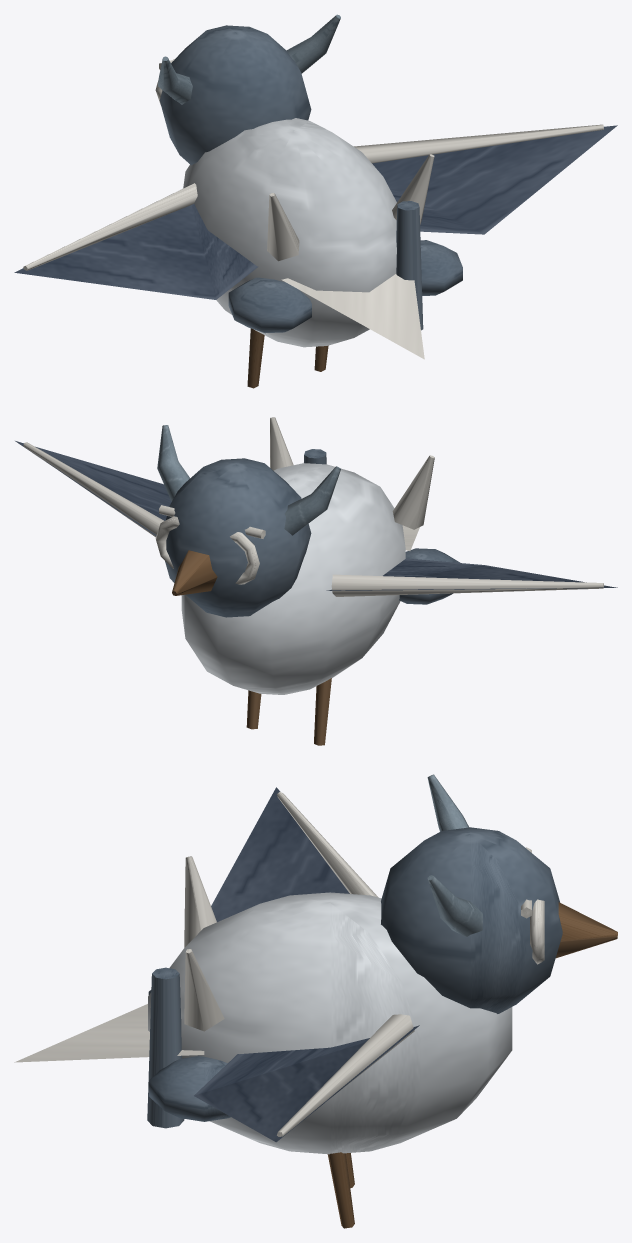
Rendered from pigeon.glb.
The picture shows the model from 3 angles, top to bottom: view 1: azimuth 30°, elevation 25°; view 2: azimuth 150°, elevation 25°; view 3: azimuth 270°, elevation 25°; orthographic projection. The views are drawn at different scales.
Parts seen in each view (by area): view 1: Body, WingL, WingR, FactionBrute, FactionArcane, FactionIndustrial; view 2: Body, WingR, WingL, FactionBrute, FactionArcane, FactionIndustrial; view 3: Body, WingL, WingR, FactionBrute, FactionIndustrial, FactionArcane.
Part boxes in pixels (x1,y1,x2,y2): Body: (159, 25, 424, 388); WingL: (354, 124, 617, 234); WingR: (14, 183, 258, 299); FactionBrute: (158, 14, 462, 333); FactionArcane: (267, 154, 434, 261); FactionIndustrial: (155, 59, 423, 330); Body: (165, 458, 419, 745); WingR: (326, 558, 617, 596); WingL: (15, 441, 171, 537); FactionBrute: (157, 425, 460, 604); FactionArcane: (270, 417, 434, 529); FactionIndustrial: (155, 449, 326, 584); Body: (14, 827, 617, 1228); WingL: (194, 1014, 419, 1142); WingR: (211, 787, 378, 921); FactionBrute: (148, 774, 482, 1121); FactionIndustrial: (147, 847, 544, 1128); FactionArcane: (184, 856, 224, 1031).
Bounding box in the file's own units: 0.2397 × 0.12 × 0.1722.
6 materials, 6 textured.
